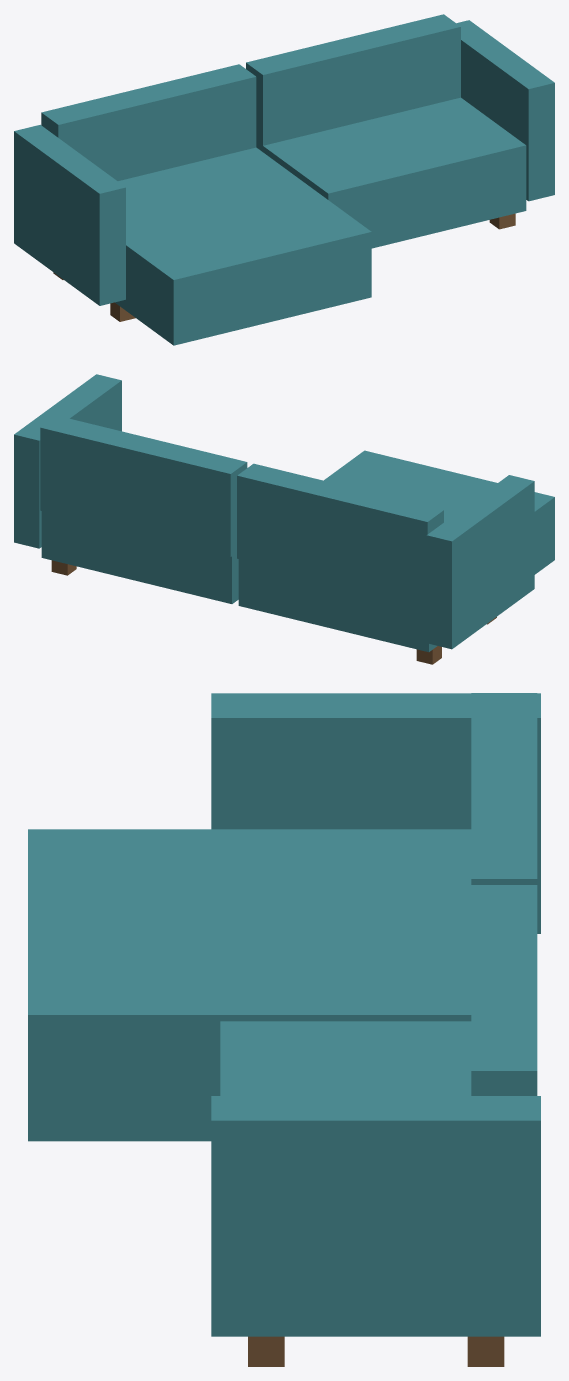
File: modulo-demo.glb
3 views of the same model, one above another, from view 1: azimuth 30°, elevation 25°; view 2: azimuth 150°, elevation 25°; view 3: azimuth 270°, elevation 25° (orthographic). The views are drawn at different scales.
Bounding box in the file's own units: 2.76 × 0.9 × 1.4.
